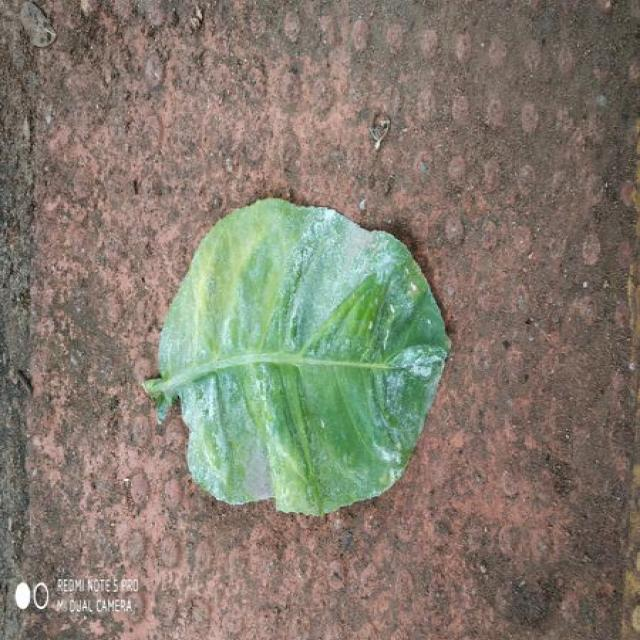badipala: (143, 199, 450, 514)
disease in leaf: (203, 200, 450, 367), (143, 328, 273, 503)
